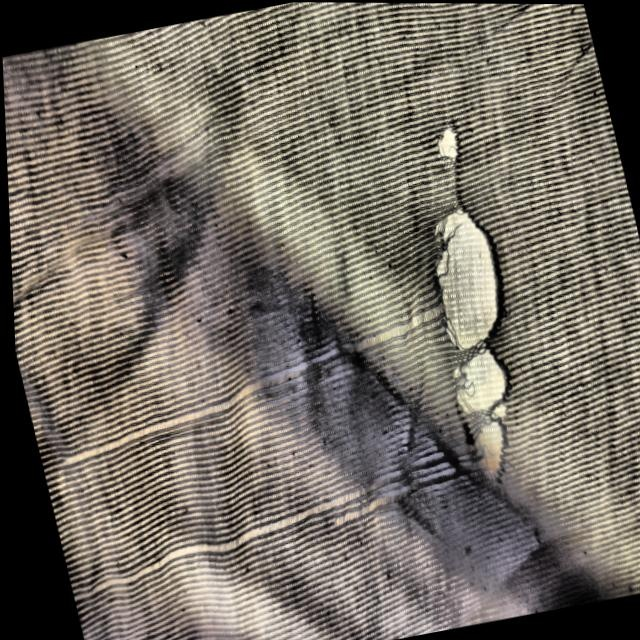Hole: (423, 113, 473, 171)
Stitch: (10, 162, 539, 515), (42, 390, 538, 638)
